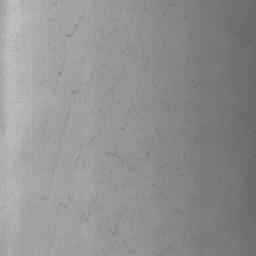Silk spot: (81, 204, 101, 221), (106, 152, 129, 166)
